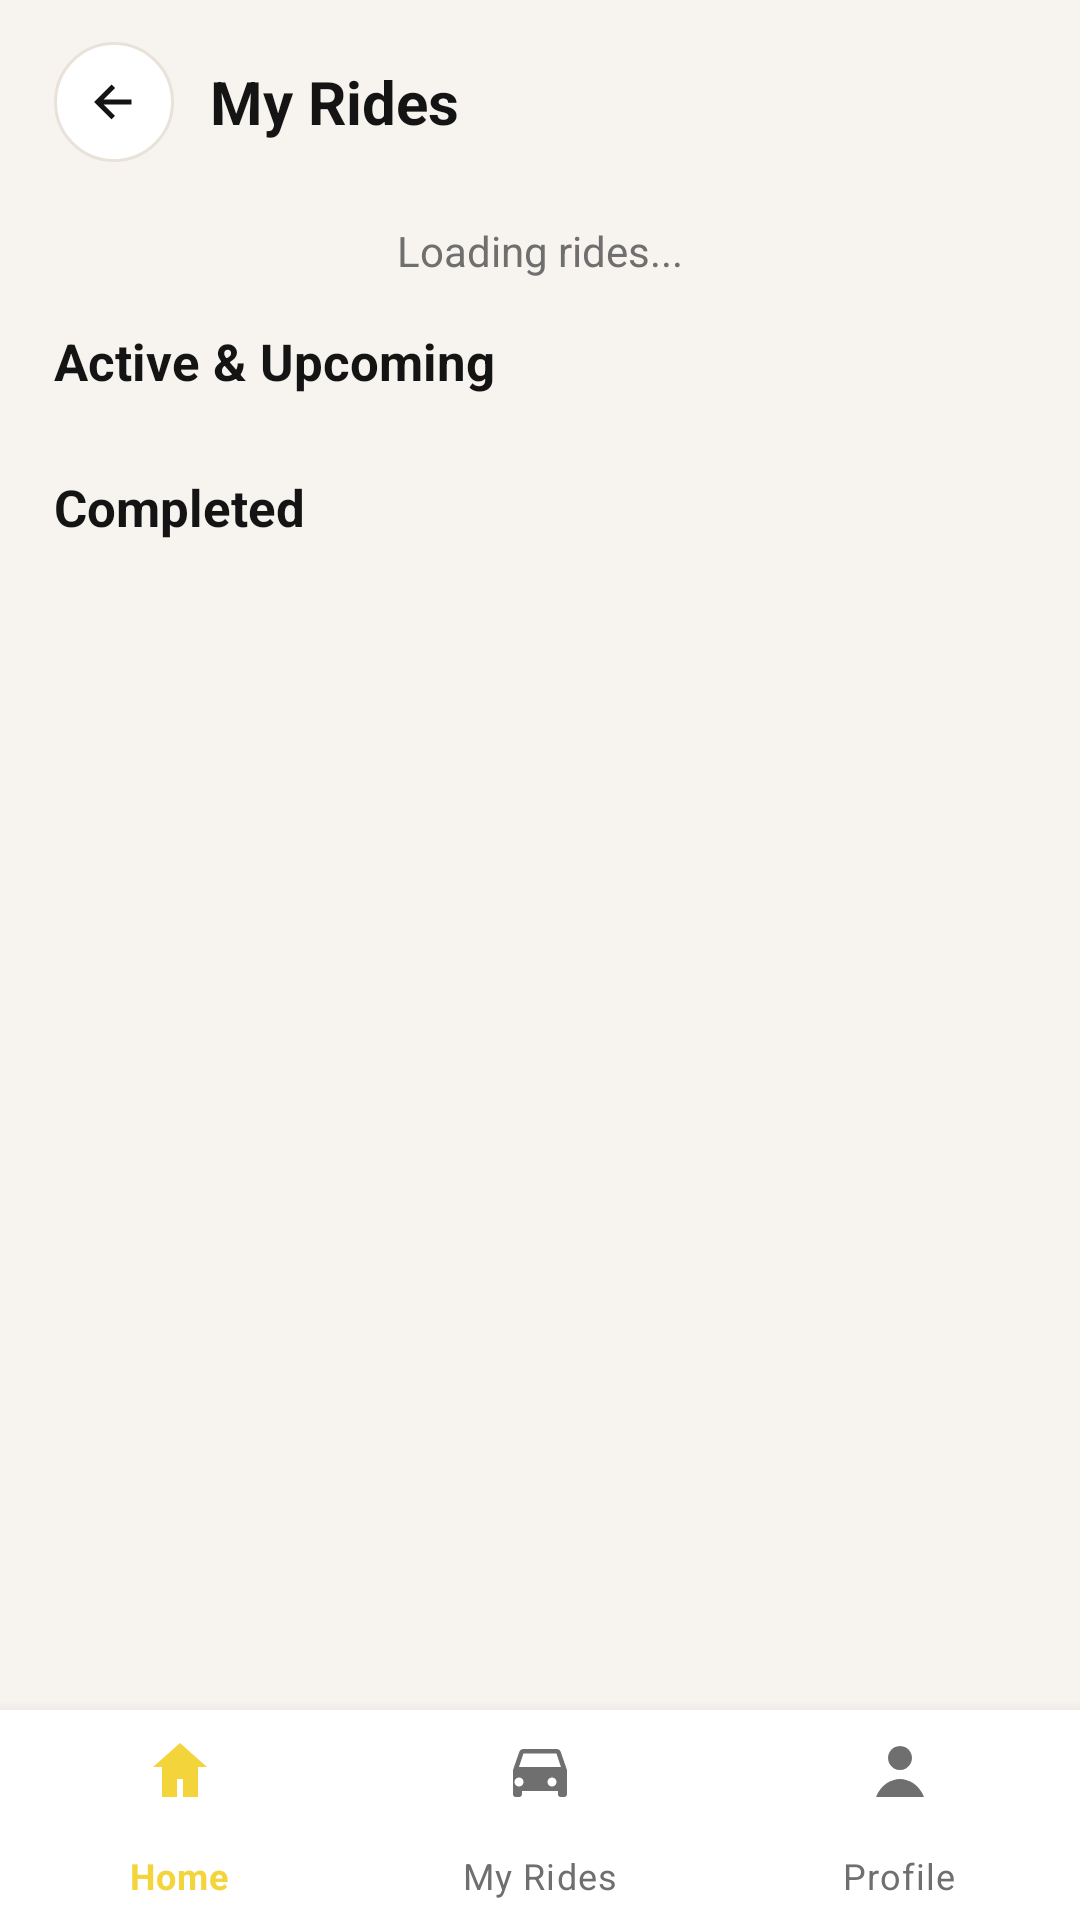

Icons on this 1080 x 1920 Android screen, each with the point to tap as (x,y):
back: (114,102)
